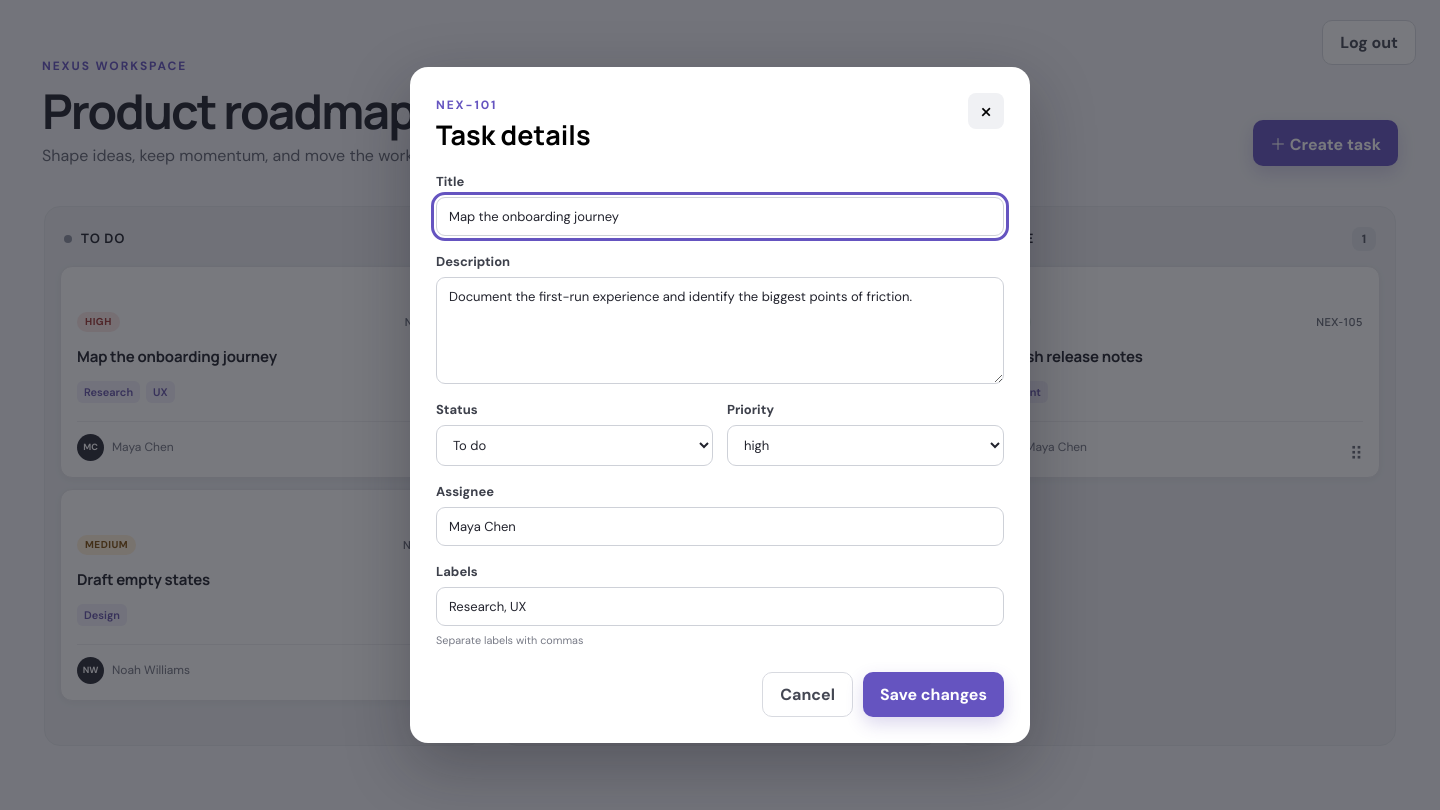
Test: task cancel returns to the board route
Click the button "Cancel" at x=808, y=695, box top-left (762, 672), bottom-right (853, 717)
(page scrolled)
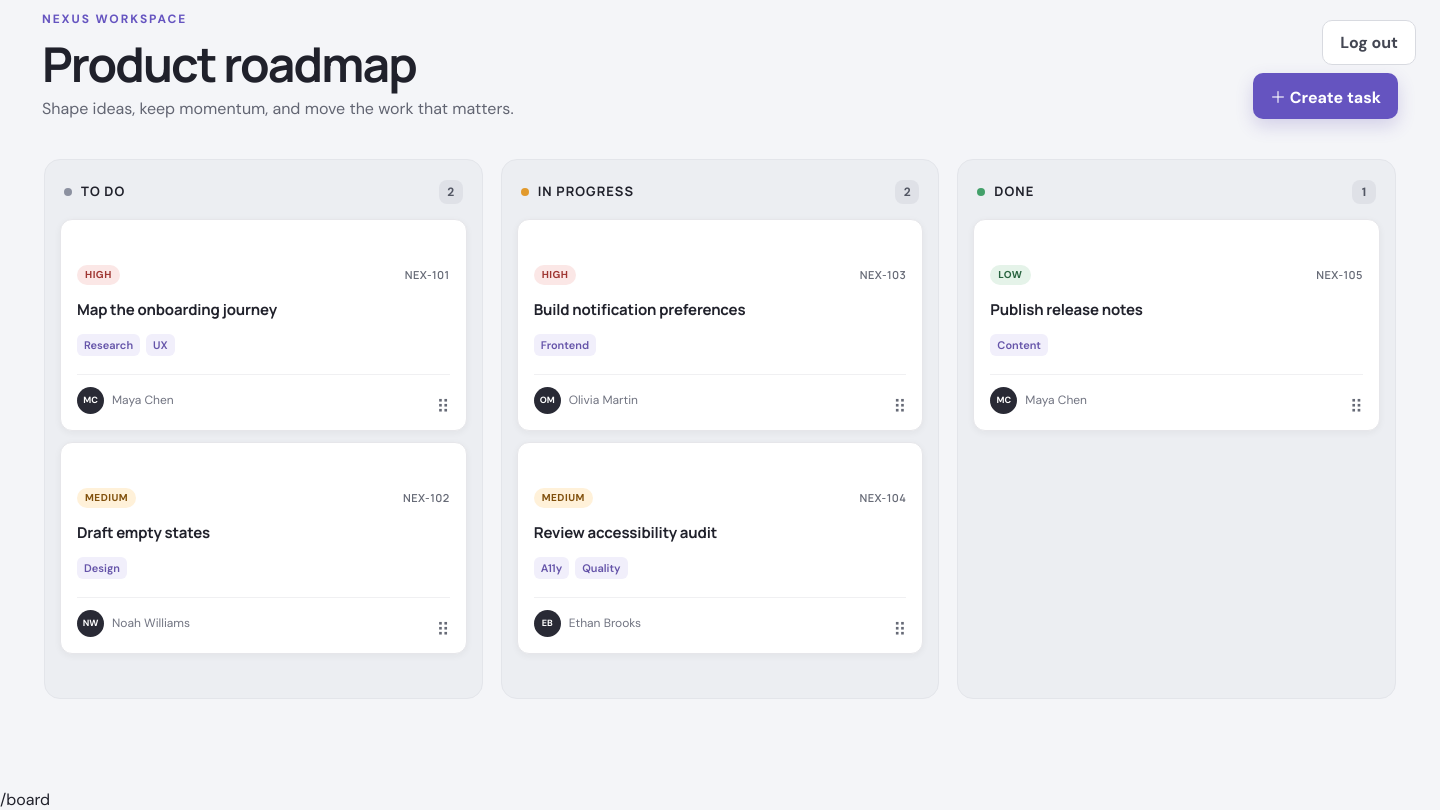
Expected: the text with test id "current-path" reads "/board", top-left (0, 789), bottom-right (50, 809)
Expected: the dialog is gone
